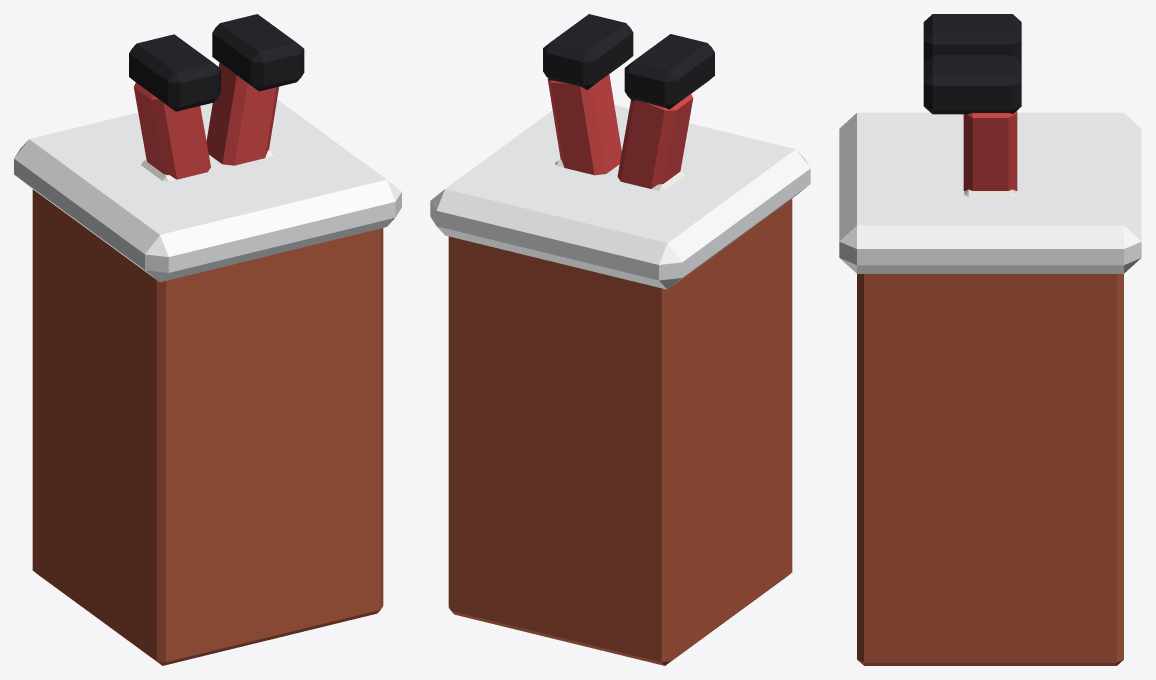
Rendered from SantaChimney.fbx.
The picture shows the model from 3 angles, left to right: view 1: azimuth 30°, elevation 25°; view 2: azimuth 150°, elevation 25°; view 3: azimuth 270°, elevation 25°; orthographic projection. The views are drawn at different scales.
Parts seen in each view (by area): view 1: SantaChimney; view 2: SantaChimney; view 3: SantaChimney.
Boxes of the visible parts, x1,y1,x2,y2 form: SantaChimney: (14, 14, 401, 665); SantaChimney: (430, 14, 810, 665); SantaChimney: (839, 14, 1141, 665).
Size of the model in its own units: 3.4 by 7.05 by 3.4.
1 material, 1 textured.
